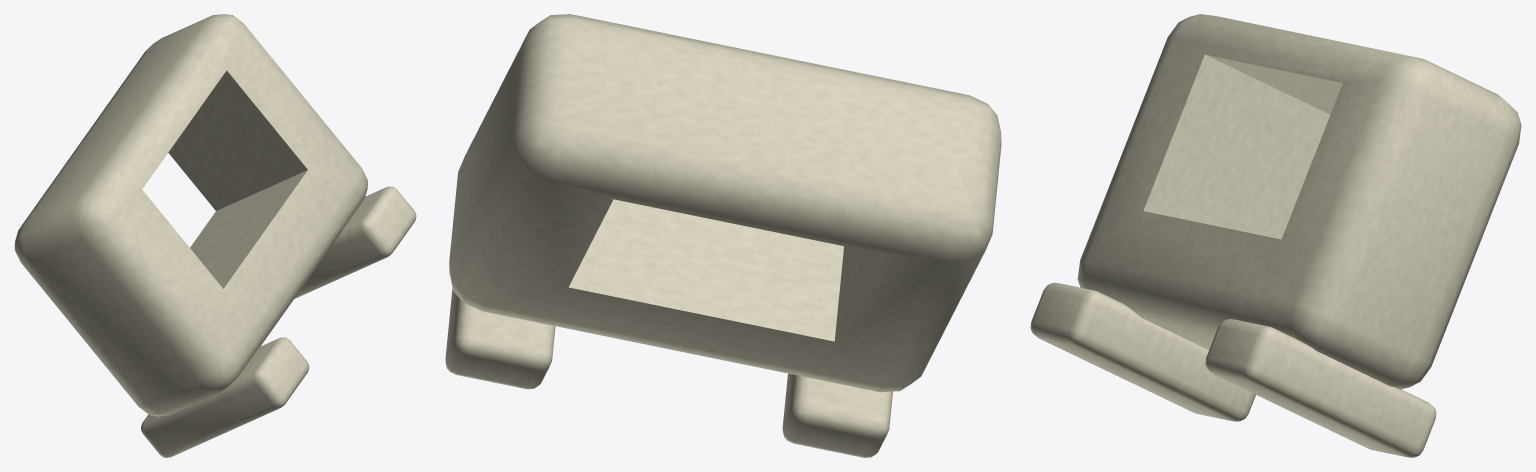
The picture shows the model from 3 angles, left to right: view 1: azimuth 30°, elevation 25°; view 2: azimuth 150°, elevation 25°; view 3: azimuth 270°, elevation 25°; orthographic projection. The views are drawn at different scales.
Visible parts, largest first — view 1: Shaped bioceramic preform; view 2: Shaped bioceramic preform; view 3: Shaped bioceramic preform.
Part boxes in pixels (<box>): Shaped bioceramic preform: <box>14,14,416,457</box>; Shaped bioceramic preform: <box>445,14,1001,457</box>; Shaped bioceramic preform: <box>1030,14,1521,457</box>.
Size of the model in its own units: 1.34 by 1.14 by 1.16.
Materials: 1 (1 with a texture image).
